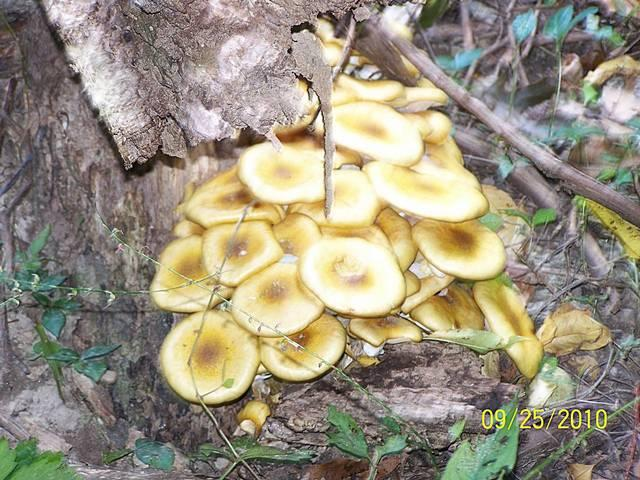Edible Mushroom: (148, 38, 544, 408)
